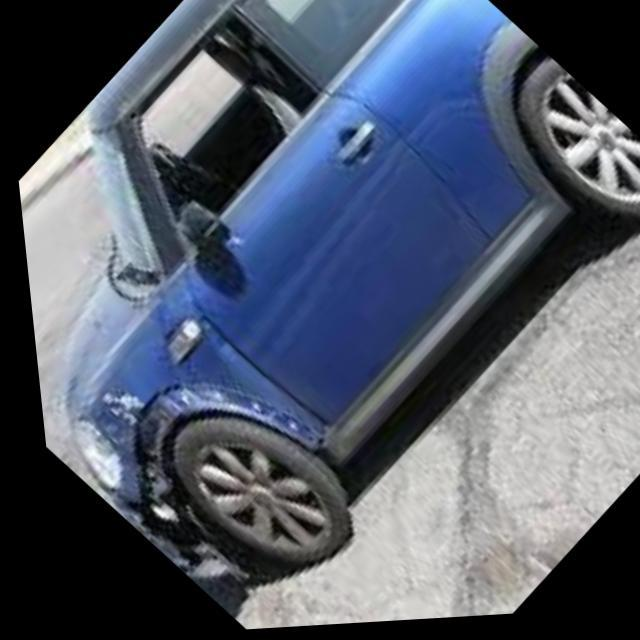crack: (78, 375, 317, 587)
